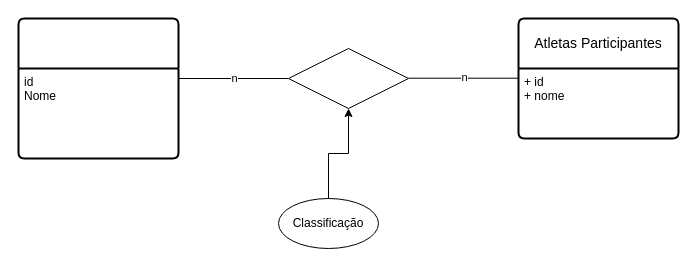
Some shapes in this 696 by 266 pixel diagram are drawn without their labels. The shapes that lost their labels are listed below. From the top down, each one's box as (x1, y1, x2, y2) in pixels, then its label:
(17, 17, 179, 159): Competições Esportivas
(288, 48, 408, 108): Relationship
